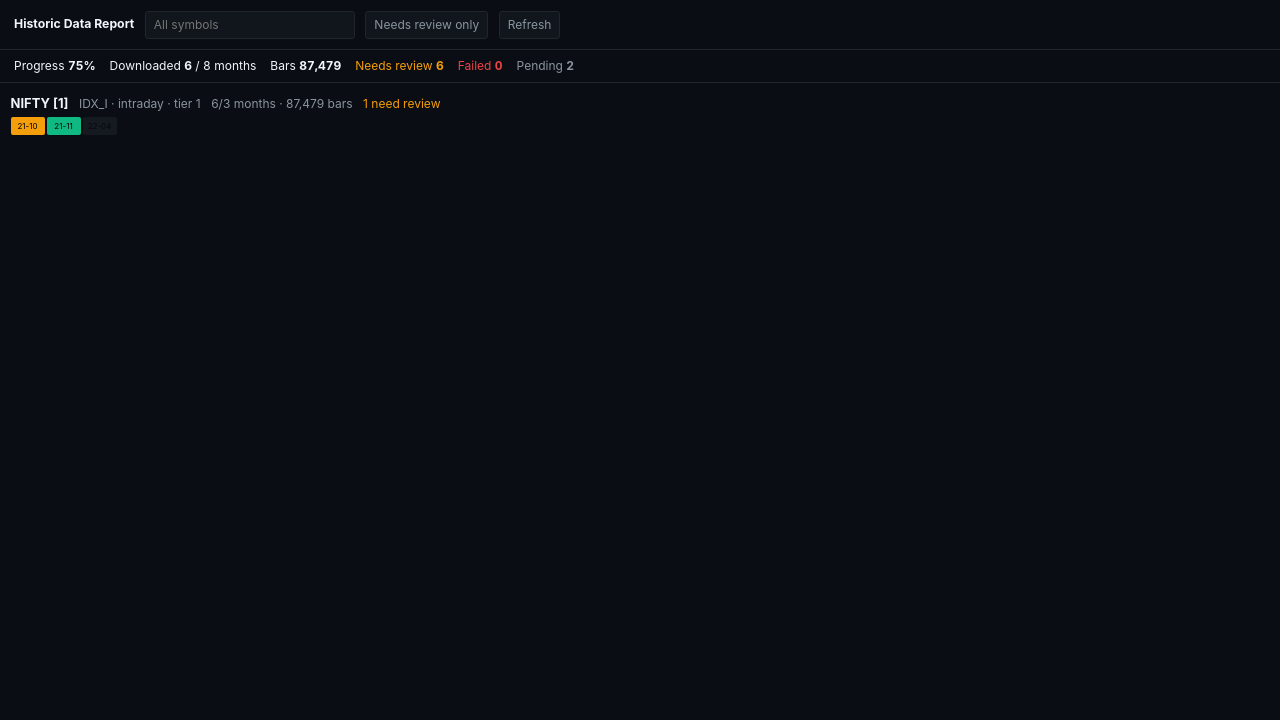
Test case: HistoricDataReportWidget › explains why a month was flagged when selected
Click the button named "2021-10 done needs review": (28, 126) [10,117,44,135]
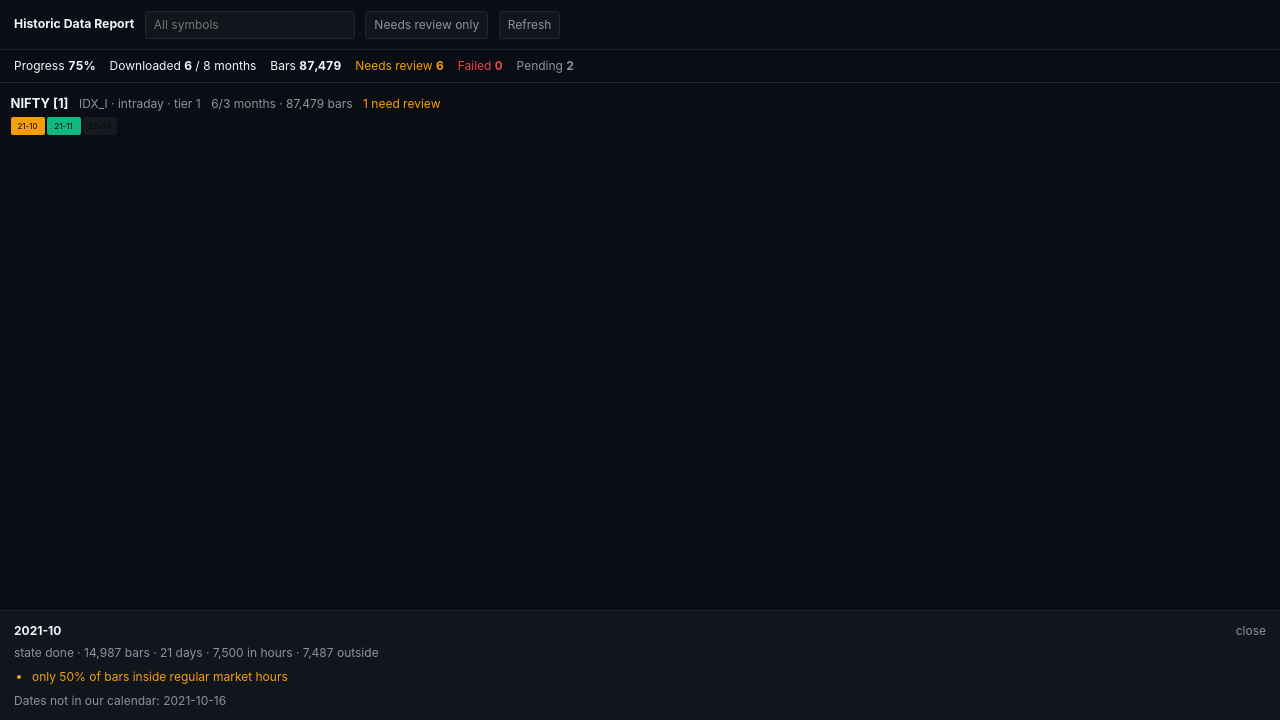
Now the element with test id "month-detail" shows "only 50% of bars inside regular market hours", box [32,668,288,684]
Now the element with test id "month-detail" shows "2021-10-16", box [163,692,226,708]
